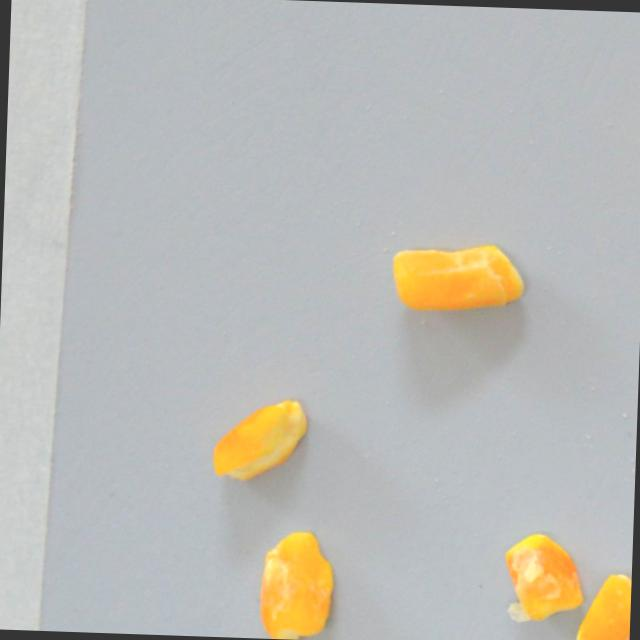dañado: (387, 240, 528, 317), (254, 523, 343, 640), (206, 394, 311, 484), (493, 529, 587, 629), (563, 567, 631, 640)
